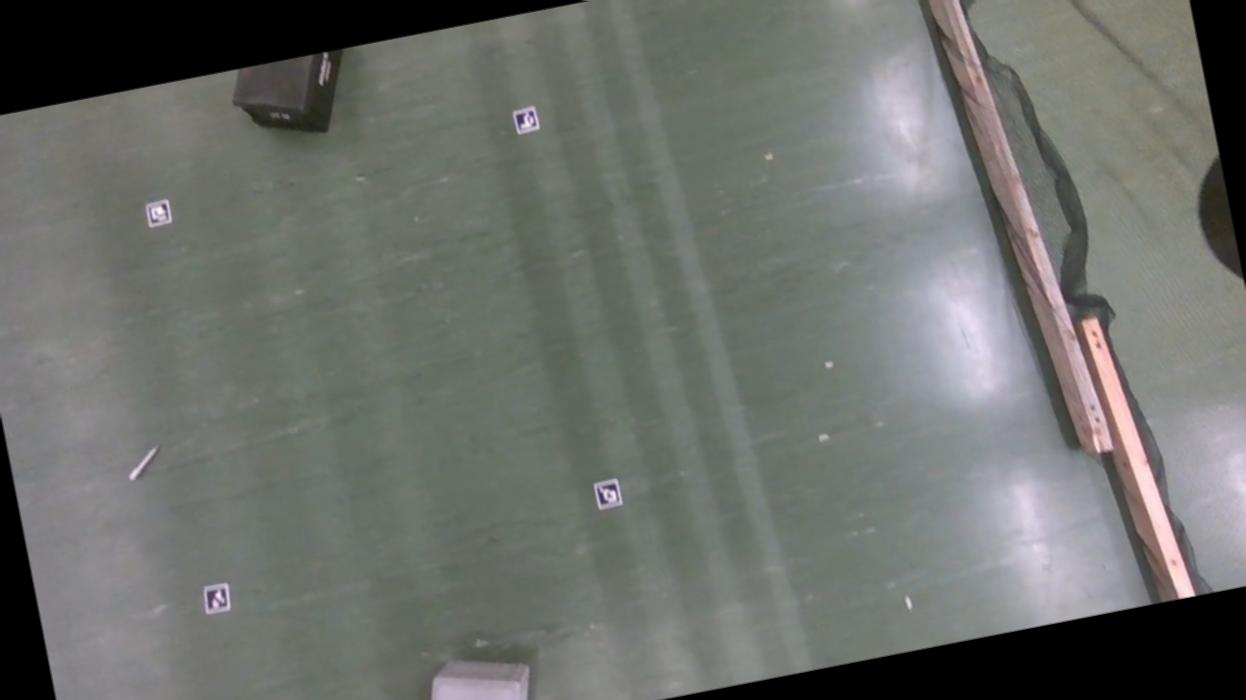probes: (126, 444, 164, 482)
rako: (226, 48, 358, 150), (407, 645, 542, 700)
